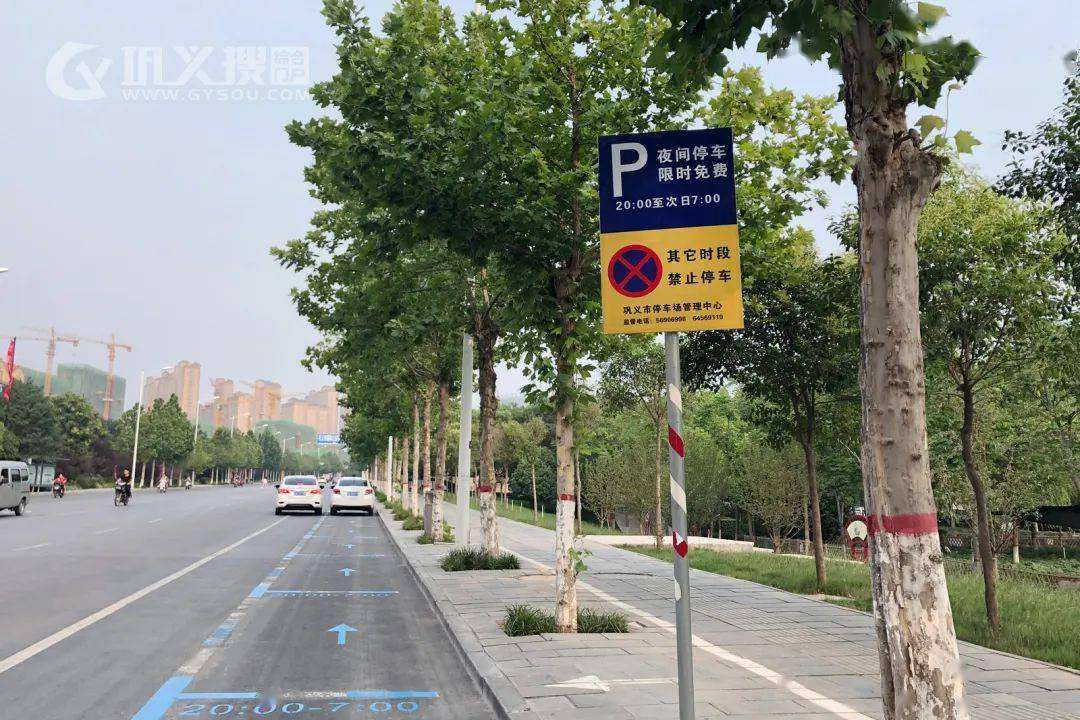slot_nocar: (166, 575, 500, 708), (260, 543, 430, 610), (283, 520, 416, 566)
